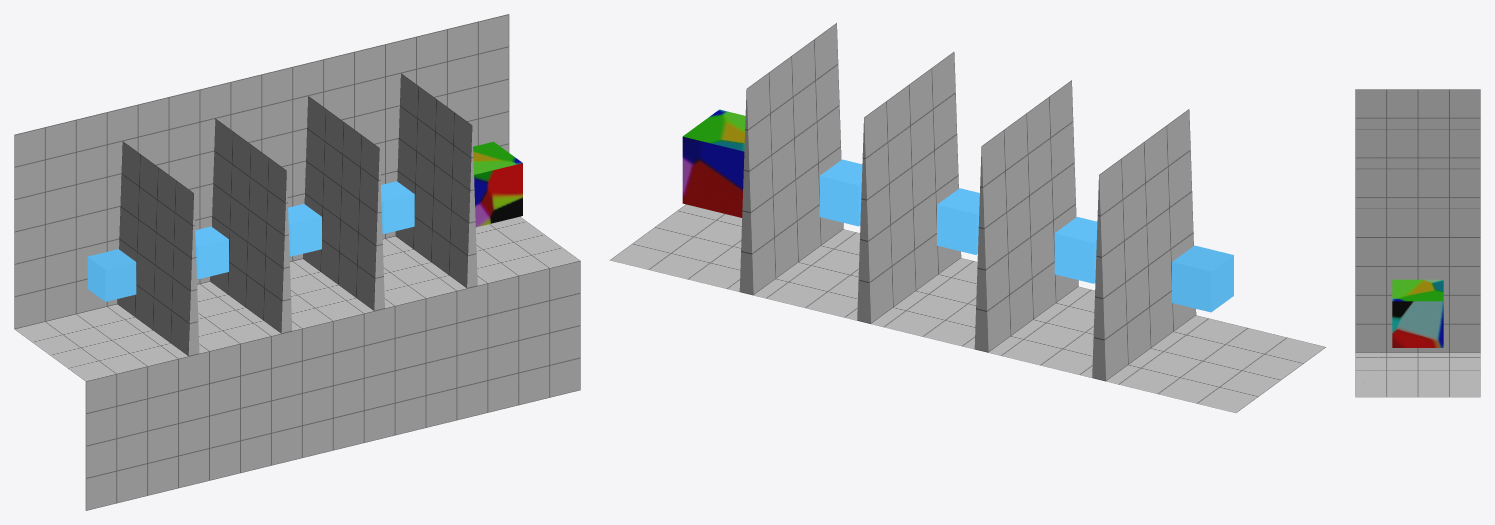
File: EmissiveStrengthTest_0.glb
3 renders of one model, left to right at view 1: azimuth 30°, elevation 25°; view 2: azimuth 150°, elevation 25°; view 3: azimuth 270°, elevation 25°, orthographic. The views are drawn at different scales.
Parts seen in each view (by area): view 1: MeterGrid, Cube16, Cube1, Cube8, Cube4, Cube2; view 2: MeterGrid, Cube16, Cube1, Cube2, Cube8, Cube4; view 3: MeterGrid, Cube16.
Part boxes in pixels (bbox=[...]): MeterGrid: bbox=[14, 14, 580, 510]; Cube16: bbox=[473, 141, 522, 227]; Cube1: bbox=[87, 249, 136, 301]; Cube8: bbox=[381, 181, 414, 233]; Cube4: bbox=[288, 204, 321, 256]; Cube2: bbox=[195, 226, 228, 279]; MeterGrid: bbox=[610, 23, 1325, 412]; Cube16: bbox=[682, 109, 745, 217]; Cube1: bbox=[1172, 245, 1233, 312]; Cube2: bbox=[1054, 217, 1097, 283]; Cube8: bbox=[819, 159, 862, 226]; Cube4: bbox=[937, 188, 979, 254]; MeterGrid: bbox=[1355, 89, 1480, 397]; Cube16: bbox=[1392, 279, 1443, 347].
Bounding box in the file's own units: 16 × 10.01 × 4.
Materials: 6 (2 with a texture image).
